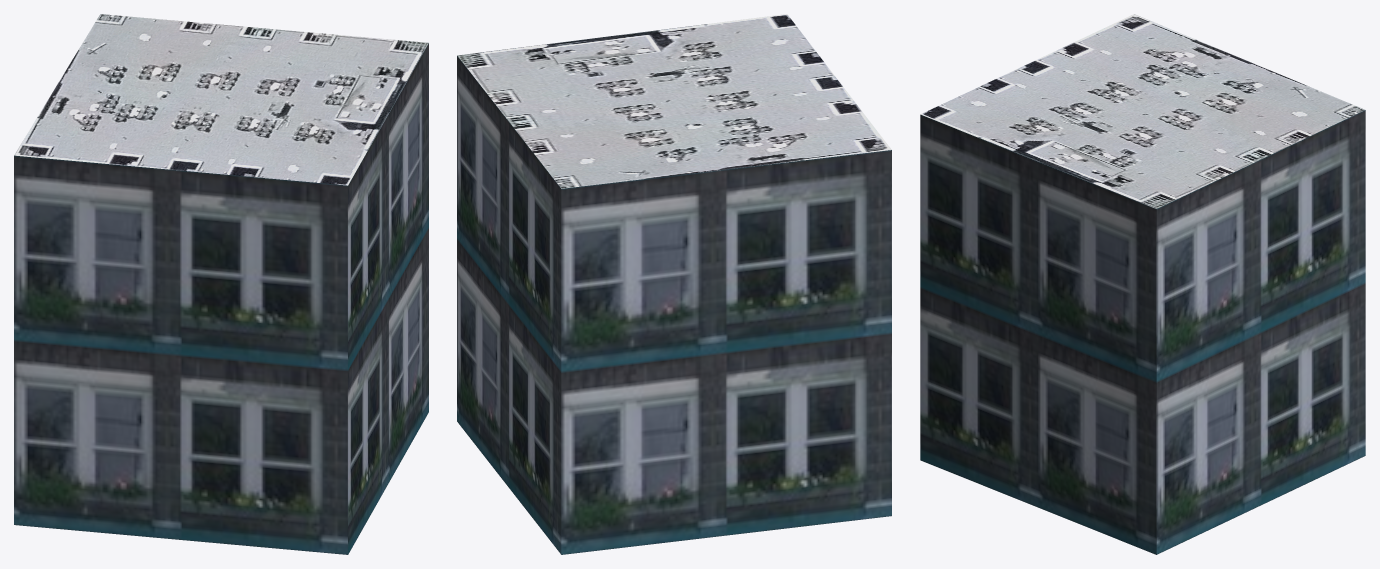
Rendered from ResTex__4182.fbx.
The picture shows the model from 3 angles, left to right: view 1: azimuth 30°, elevation 25°; view 2: azimuth 150°, elevation 25°; view 3: azimuth 270°, elevation 25°; orthographic projection. The views are drawn at different scales.
Parts seen in each view (by area): view 1: CityEngineMaterial_11_m, CityEngineMaterial_m; view 2: CityEngineMaterial_11_m, CityEngineMaterial_m; view 3: CityEngineMaterial_11_m, CityEngineMaterial_m.
Boxes of the visible parts, box(x1,y1,x2,y2) form: CityEngineMaterial_11_m: box(14, 43, 428, 554); CityEngineMaterial_m: box(14, 14, 428, 185); CityEngineMaterial_11_m: box(457, 56, 891, 554); CityEngineMaterial_m: box(457, 14, 891, 188); CityEngineMaterial_11_m: box(920, 110, 1365, 554); CityEngineMaterial_m: box(920, 14, 1364, 208).
Size of the model in its own units: 7.26 by 6 by 7.
2 materials, 2 textured.
